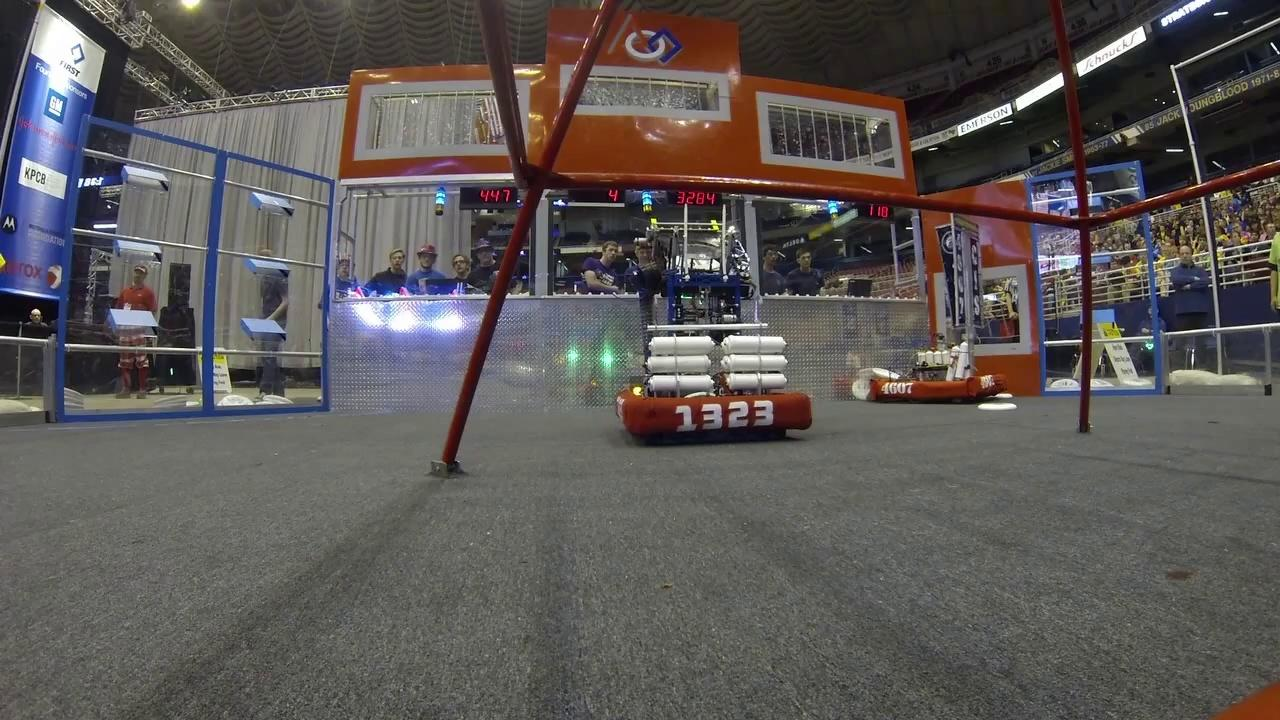robot: (613, 265, 815, 448), (859, 205, 1007, 408)
